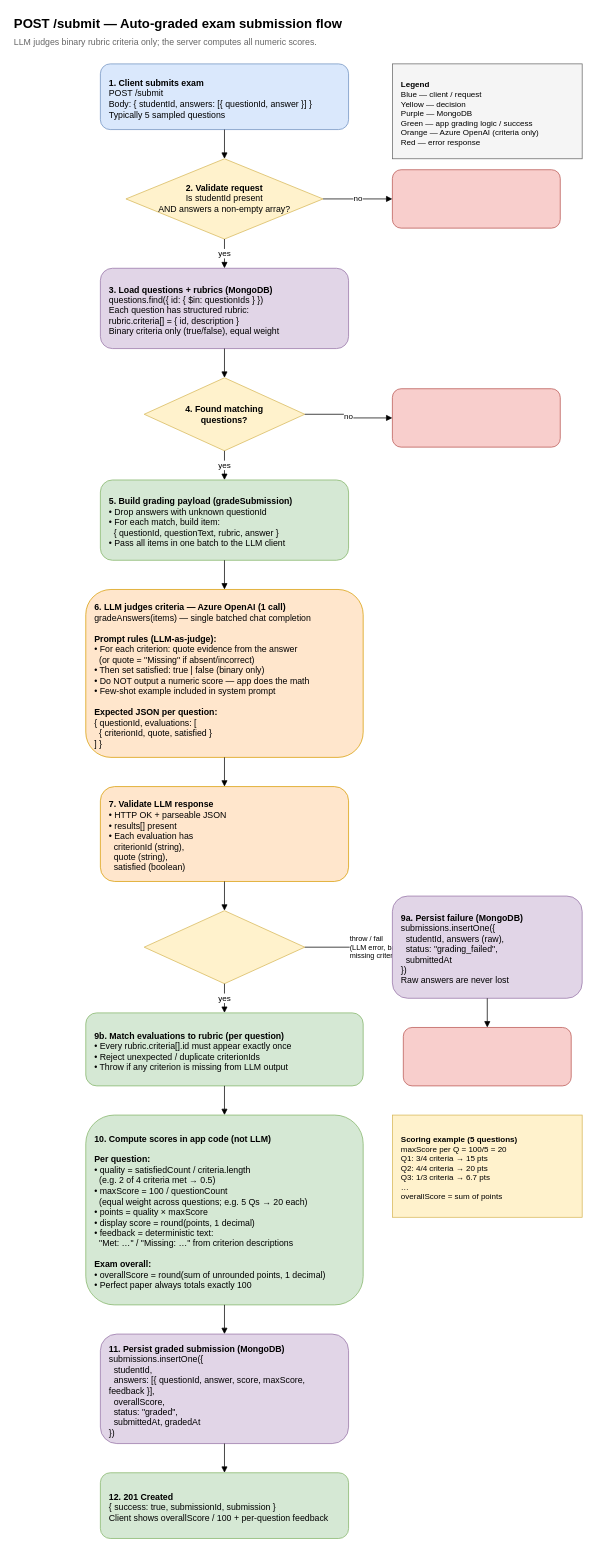
This 595x1551 diagram has some shape labels left out. The shapes that lost their labels are listed below. From the top down, each one's centre as x and y in pixels, then its label:
At point (476, 198): "400 Bad Request studentId and a non-empty answers array are required".
At point (476, 417): "400 Bad Request No matching questions found for submitted answers".
At point (224, 947): "8. Grading pipeline OK?".
At point (487, 1056): "502 Bad Gateway Automatic grading failed Returns submissionId for tracking".
